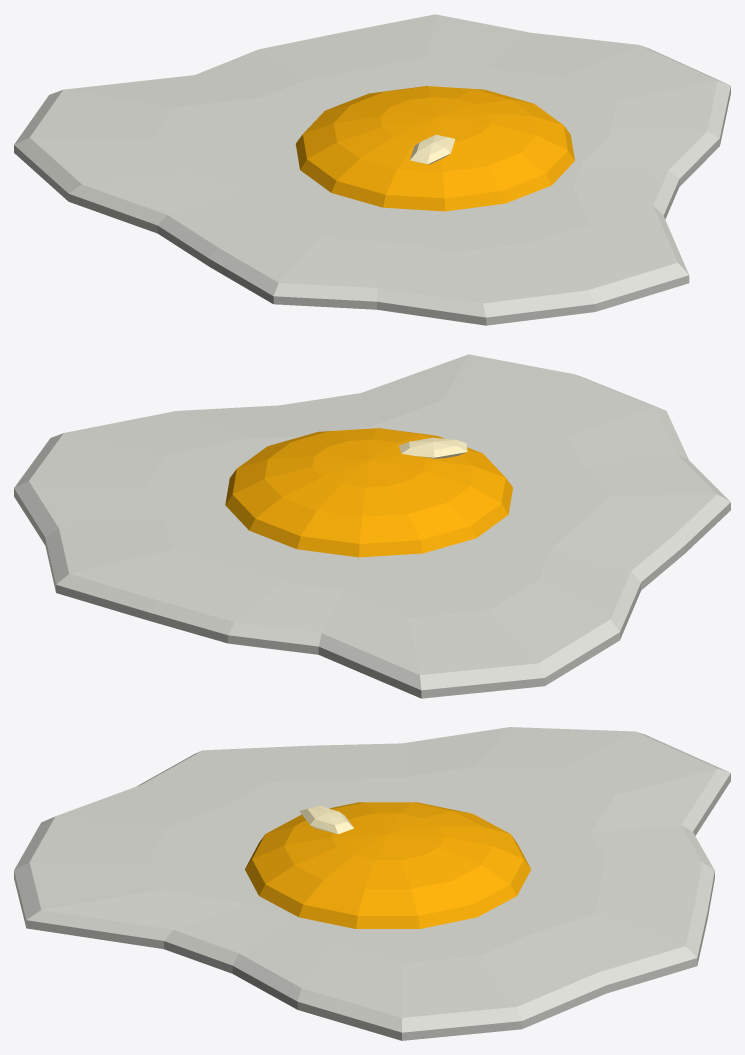
Rendered from fried_egg.glb.
The picture shows the model from 3 angles, top to bottom: view 1: azimuth 30°, elevation 25°; view 2: azimuth 150°, elevation 25°; view 3: azimuth 270°, elevation 25°; orthographic projection. The views are drawn at different scales.
Visible parts, largest first — view 1: FriedEgg; view 2: FriedEgg; view 3: FriedEgg.
Boxes of the visible parts, x1,y1,x2,y2 form: FriedEgg: (14, 14, 730, 325); FriedEgg: (14, 354, 730, 698); FriedEgg: (14, 727, 730, 1040).
Size of the model in its own units: 3 by 0.4 by 3.
